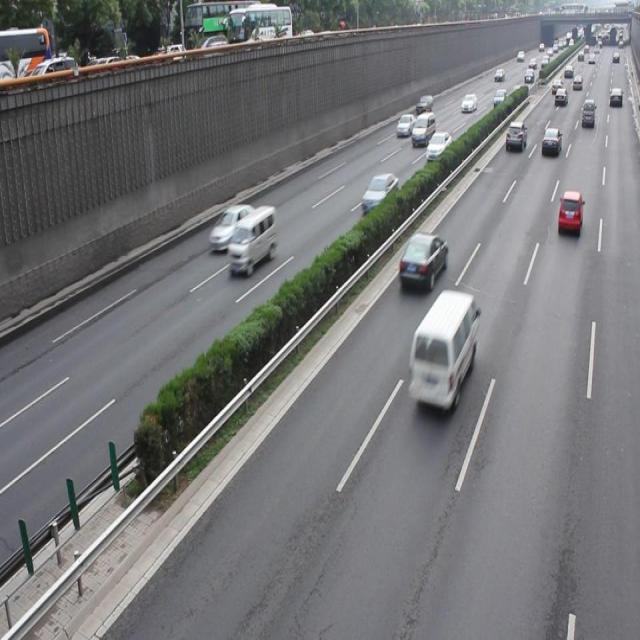car: (398, 230, 448, 288), (209, 202, 255, 252), (360, 172, 398, 216), (556, 190, 581, 238)
truck: (408, 290, 478, 408), (226, 204, 277, 272)
